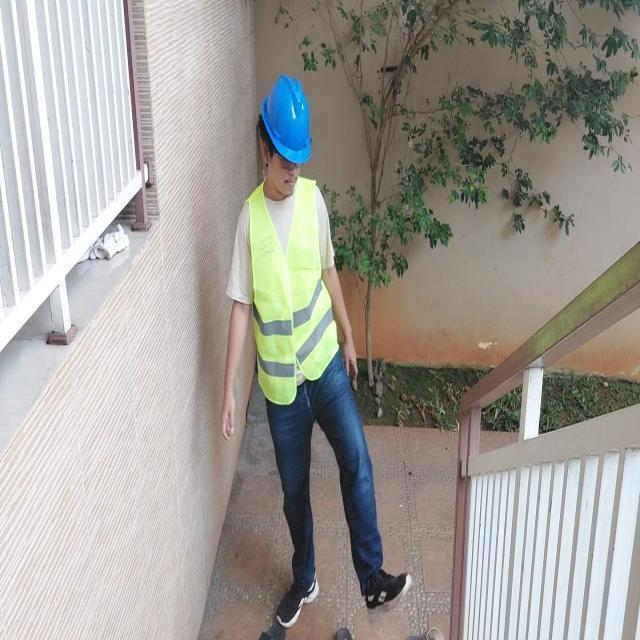Capacete: (261, 74, 310, 163)
Colete: (248, 177, 337, 404)
